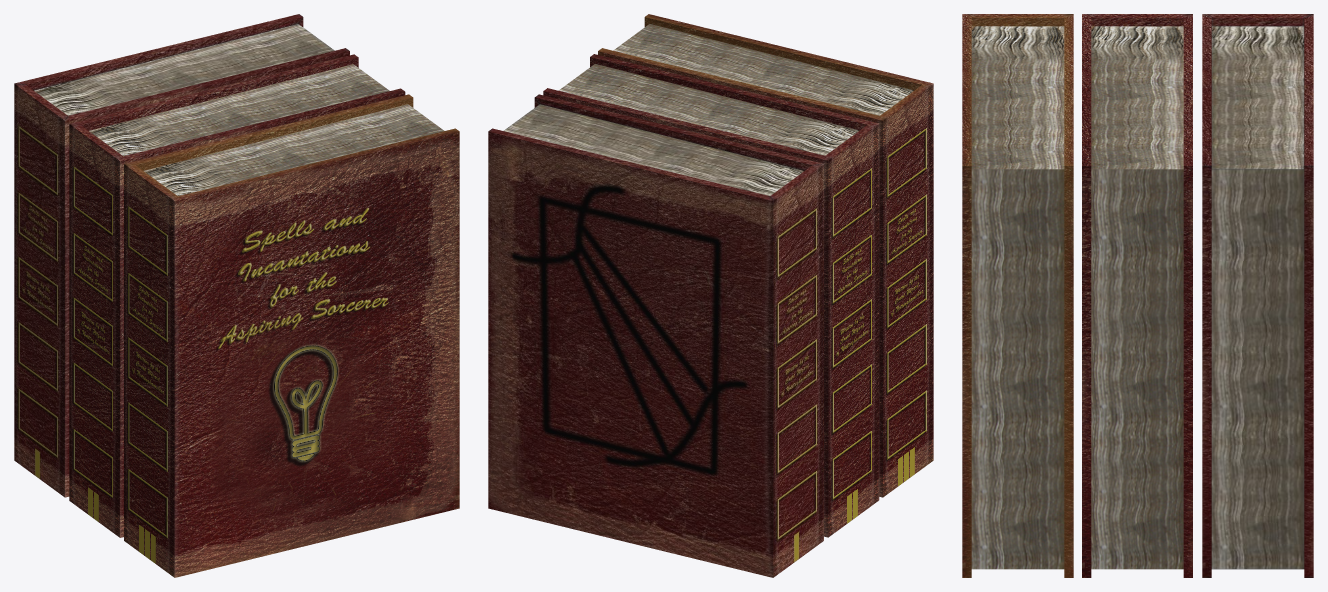
File: book.fbx
The picture shows the model from 3 angles, left to right: view 1: azimuth 30°, elevation 25°; view 2: azimuth 150°, elevation 25°; view 3: azimuth 270°, elevation 25°; orthographic projection. The views are drawn at different scales.
Visible parts, largest first — view 1: hp.002, hp, hp.001; view 2: hp, hp.001, hp.002; view 3: hp, hp.002, hp.001.
Boxes of the visible parts, x1,y1,x2,y2 form: hp.002: (124,94,459,577); hp: (14,14,349,497); hp.001: (69,54,405,537); hp: (488,94,823,577); hp.001: (543,54,879,537); hp.002: (598,14,933,497); hp: (1202,14,1313,577); hp.002: (962,14,1073,577); hp.001: (1082,14,1192,577).
Size of the model in its own units: 33.82 by 42.73 by 33.
3 materials, 3 textured.
